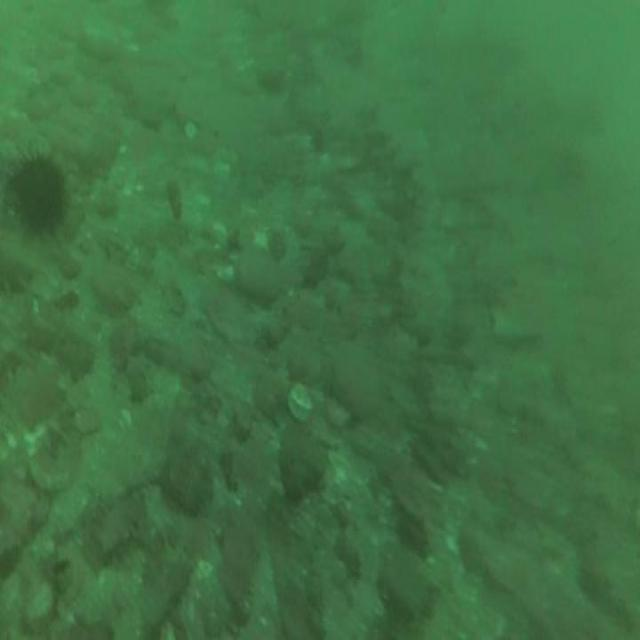echinus: (14, 155, 67, 234)
scallop: (288, 378, 314, 428)
